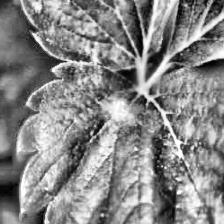Powdery Mildew Leaf: (14, 57, 223, 224), (18, 0, 195, 71)
